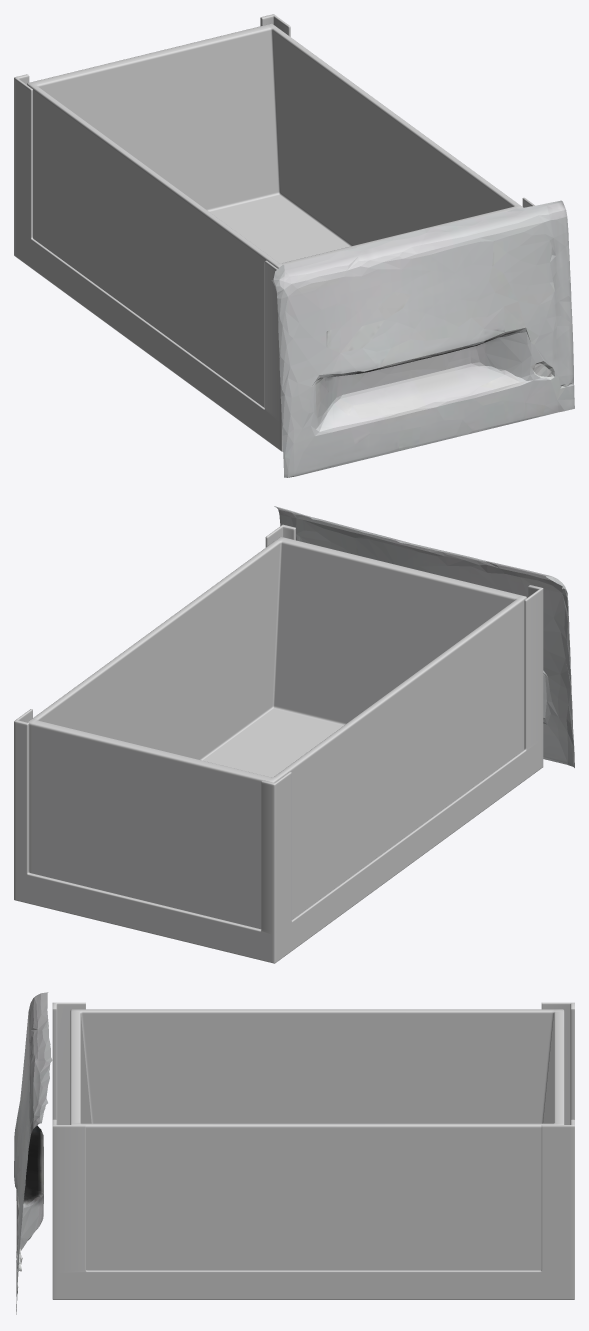
File: drawer_dispenser.glb
3 views of the same model, one above another, from view 1: azimuth 30°, elevation 25°; view 2: azimuth 150°, elevation 25°; view 3: azimuth 270°, elevation 25° (orthographic). The views are drawn at different scales.
Parts seen in each view (by area): view 1: prefab_drawer_body_1, source_front_cap_0; view 2: prefab_drawer_body_1, source_front_cap_0; view 3: prefab_drawer_body_1, source_front_cap_0.
Boxes of the visible parts, x1,y1,x2,y2 form: prefab_drawer_body_1: (14,14,534,451); source_front_cap_0: (271,200,574,477); prefab_drawer_body_1: (14,524,543,963); source_front_cap_0: (274,506,574,767); prefab_drawer_body_1: (52,1002,574,1299); source_front_cap_0: (14,992,52,1314).
Size of the model in its own units: 0.2107 by 0.1384 by 0.3635.
Materials: 2 (1 with a texture image).
